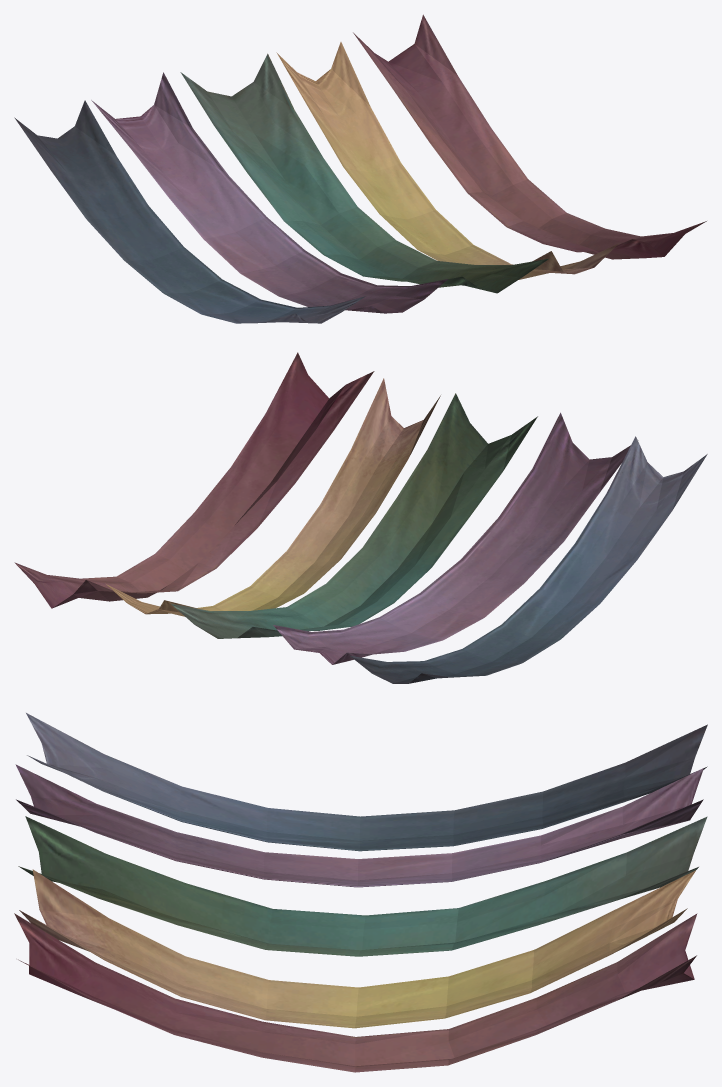
File: bg_anh_mirrorv_dc08_sm_ysi.FBX
3 renders of one model, top to bottom at view 1: azimuth 30°, elevation 25°; view 2: azimuth 150°, elevation 25°; view 3: azimuth 270°, elevation 25°, orthographic. The views are drawn at different scales.
Visible parts, largest first — view 1: bg_anh_mirrorv_dc08_sm_ysi; view 2: bg_anh_mirrorv_dc08_sm_ysi; view 3: bg_anh_mirrorv_dc08_sm_ysi.
Boxes of the visible parts, box(x1,y1,x2,y2) form: bg_anh_mirrorv_dc08_sm_ysi: box(14, 14, 706, 323); bg_anh_mirrorv_dc08_sm_ysi: box(14, 352, 707, 683); bg_anh_mirrorv_dc08_sm_ysi: box(14, 713, 707, 1072).
Size of the model in its own units: 275 by 72.41 by 334.
